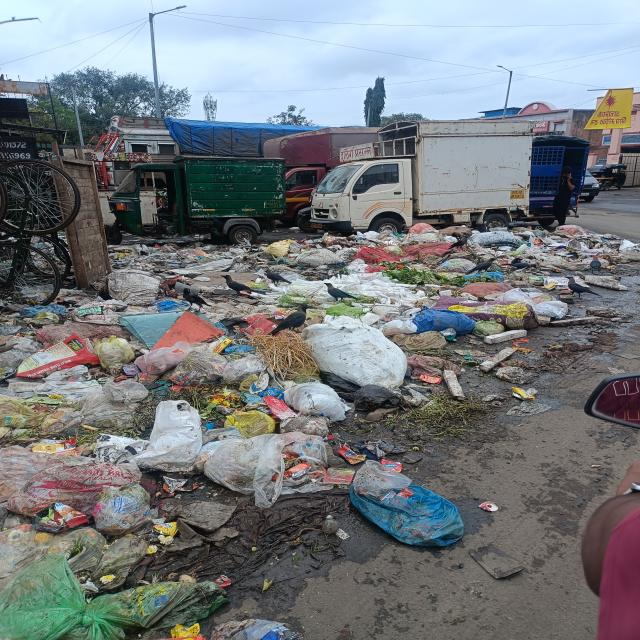garbage: (4, 362, 422, 624), (0, 227, 638, 359)
